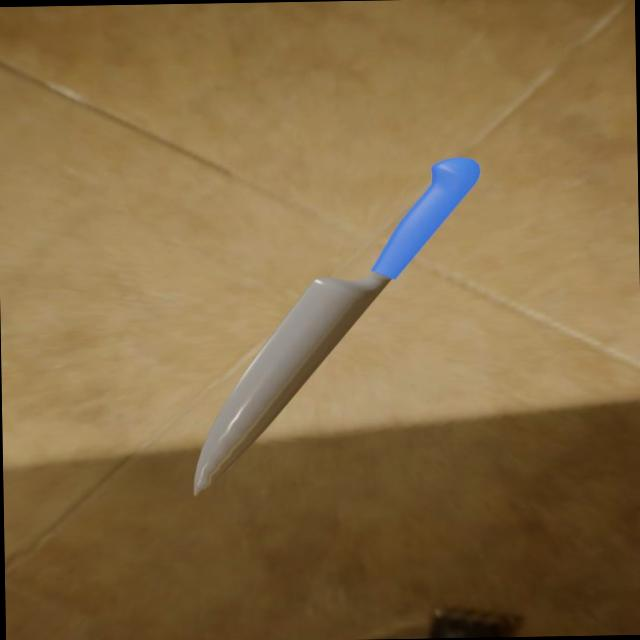knife: (368, 154, 483, 278)
